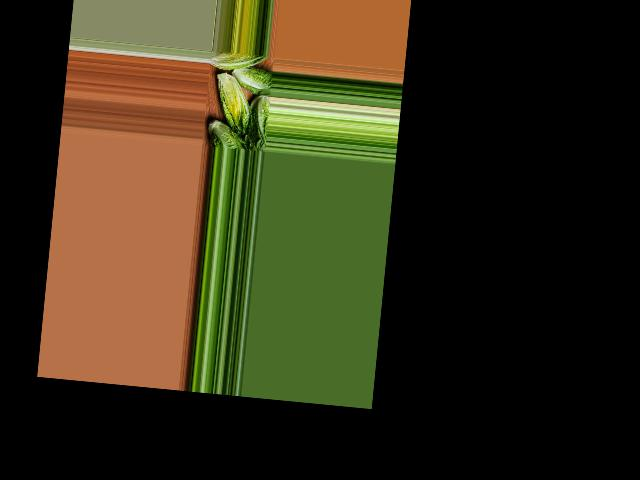lettuce: (210, 50, 267, 75)
